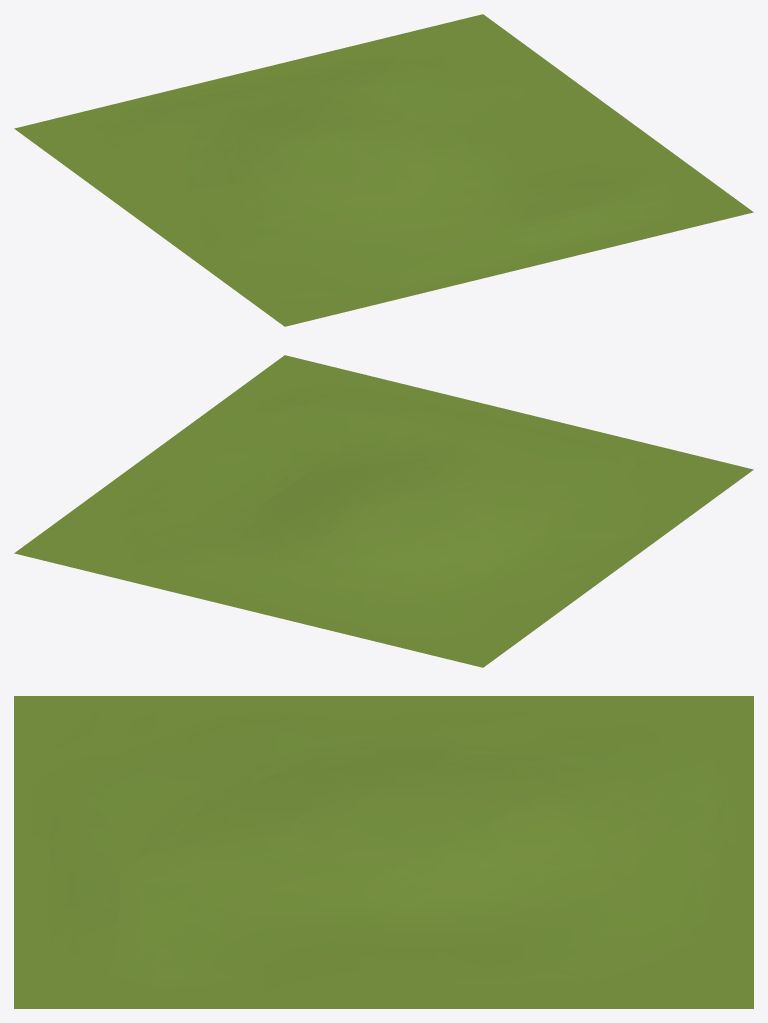
File: Mesh_Landscape_Terrain_02.FBX
3 renders of one model, top to bottom at view 1: azimuth 30°, elevation 25°; view 2: azimuth 150°, elevation 25°; view 3: azimuth 270°, elevation 25°, orthographic. The views are drawn at different scales.
Visible parts, largest first — view 1: Mesh_Landscape_Terrain_02; view 2: Mesh_Landscape_Terrain_02; view 3: Mesh_Landscape_Terrain_02.
Part boxes in pixels (x1,y1,x2,y2): Mesh_Landscape_Terrain_02: [14, 14, 753, 326]; Mesh_Landscape_Terrain_02: [14, 355, 753, 667]; Mesh_Landscape_Terrain_02: [14, 696, 753, 1008].
Bounding box in the file's own units: 12800 × 12800 × 232.
